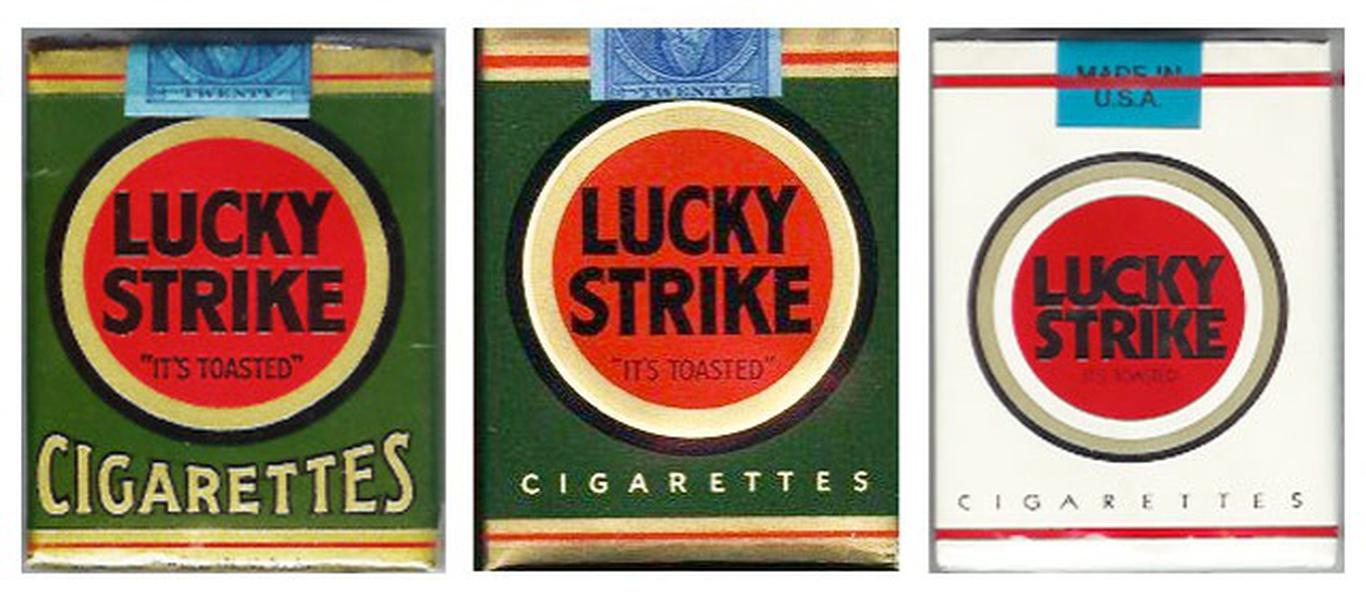lucky_strike_red: (939, 40, 1348, 578)
